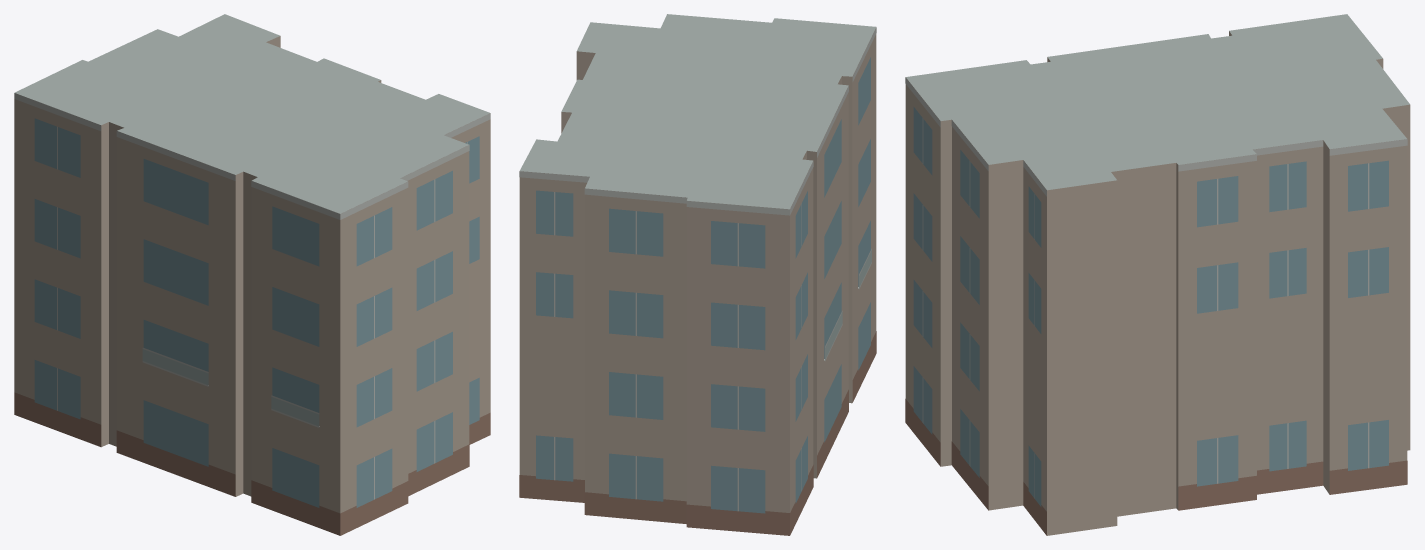
File: survey-upis-32702311.glb
The picture shows the model from 3 angles, left to right: view 1: azimuth 30°, elevation 25°; view 2: azimuth 150°, elevation 25°; view 3: azimuth 270°, elevation 25°; orthographic projection. The views are drawn at different scales.
Parts seen in each view (by area): view 1: survey-upis-32702311.tmp; view 2: survey-upis-32702311.tmp; view 3: survey-upis-32702311.tmp.
Part boxes in pixels (<box>): survey-upis-32702311.tmp: <box>14,14,490,535</box>; survey-upis-32702311.tmp: <box>519,14,876,535</box>; survey-upis-32702311.tmp: <box>905,14,1410,535</box>.
Size of the model in its own units: 14.01 by 12.8 by 16.95.
